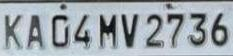0: (50, 11, 69, 51)
2: (144, 10, 165, 50)
3: (187, 11, 208, 50)
4: (72, 12, 92, 50)
6: (211, 12, 230, 49)
7: (166, 11, 185, 50)
A: (25, 13, 45, 51)
K: (3, 13, 23, 51)
M: (97, 12, 120, 51)
V: (120, 10, 141, 49)
